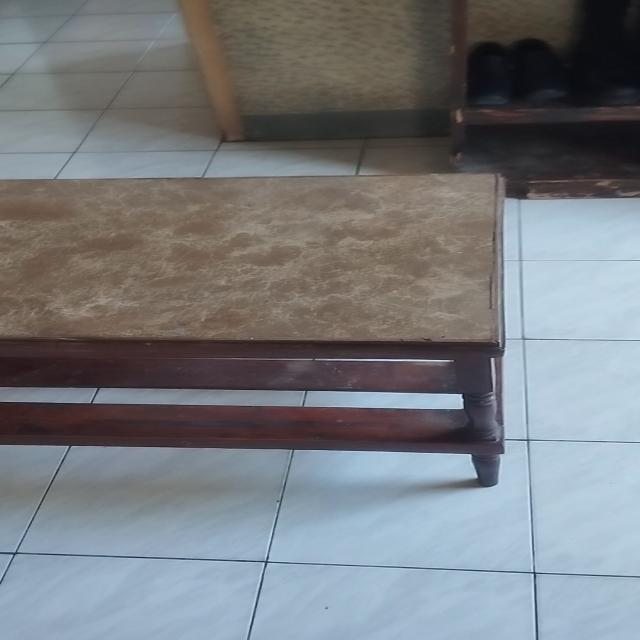table: (0, 162, 526, 488)
